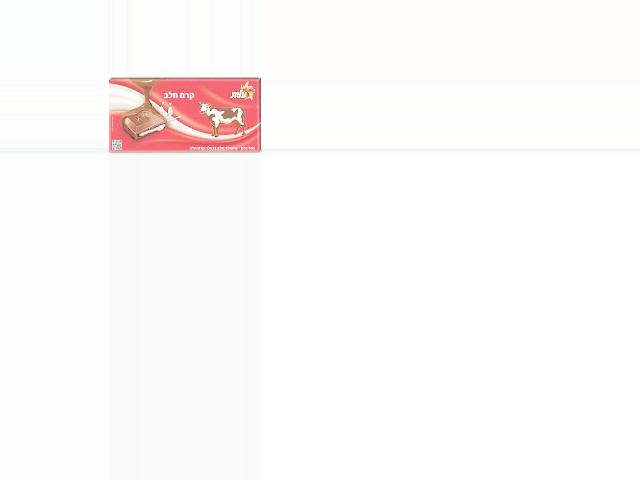chocolate: (109, 77, 263, 153)
